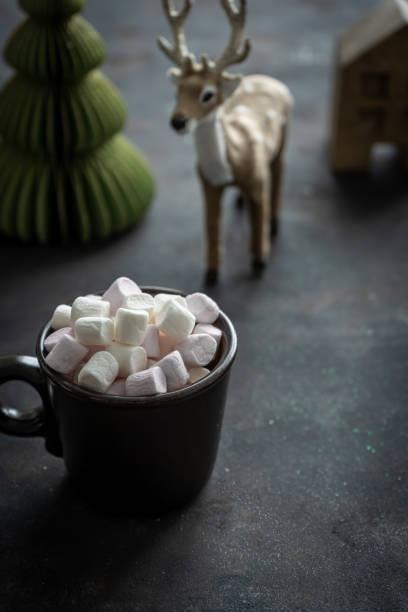cup-handle: (0, 285, 238, 518)
